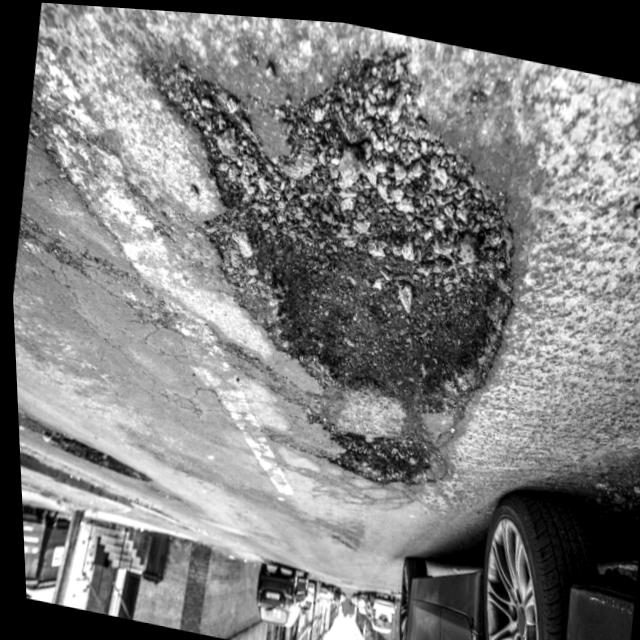pathole: (10, 2, 551, 484), (91, 10, 515, 543)
